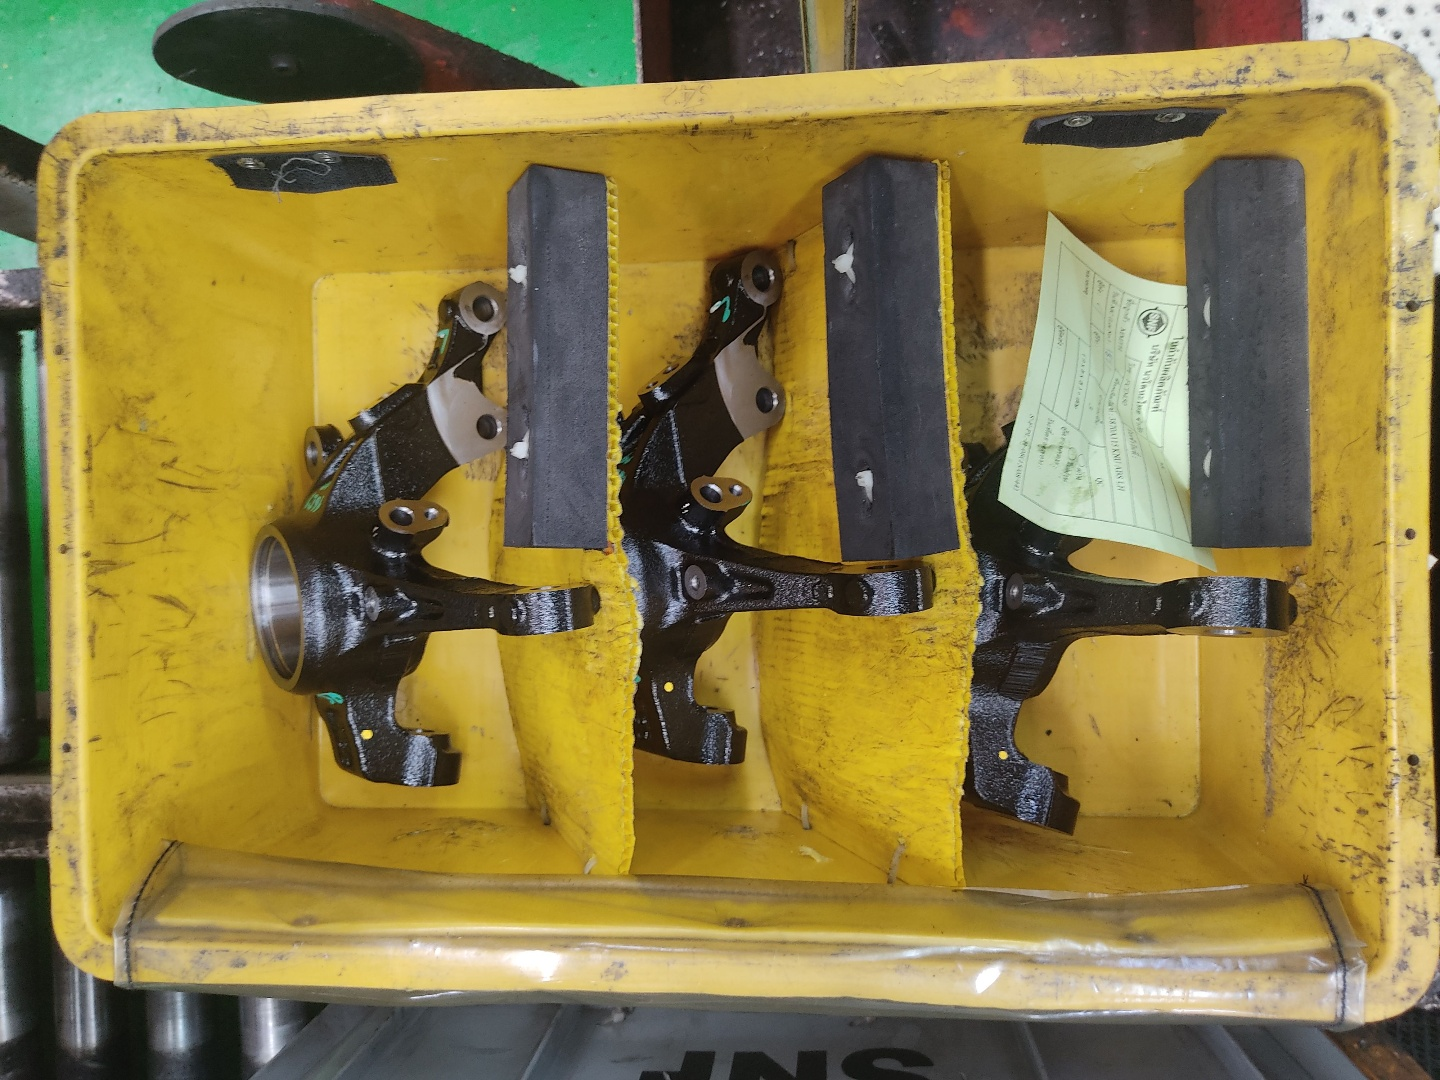abs-lh: (244, 268, 612, 802), (950, 293, 1308, 841), (612, 241, 950, 778)
